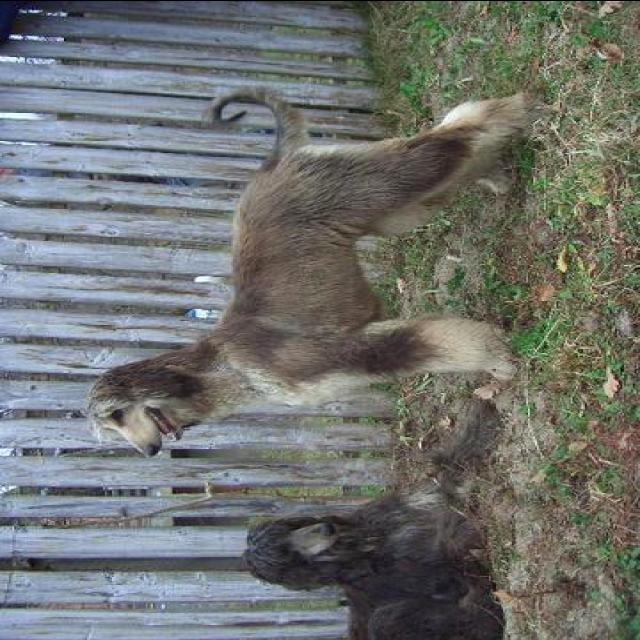afghan_hound: (82, 82, 540, 462), (244, 392, 502, 638)
